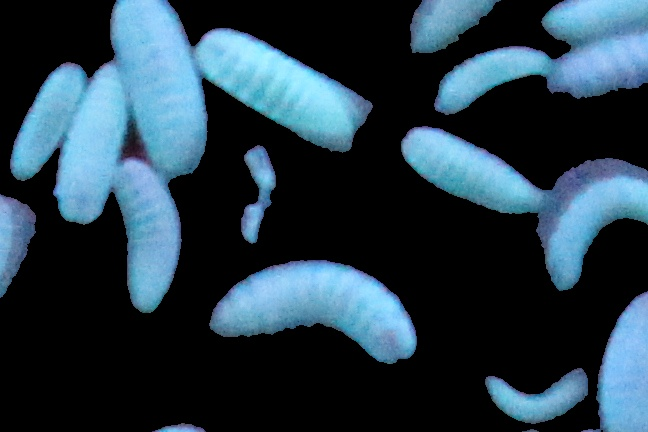larvae: (195, 26, 368, 153), (211, 262, 417, 366), (110, 1, 206, 180), (52, 59, 128, 224), (402, 126, 539, 214), (545, 173, 648, 290), (113, 156, 181, 314), (10, 57, 82, 183), (433, 45, 550, 115), (594, 292, 647, 432), (548, 31, 648, 100), (540, 1, 648, 52), (483, 371, 589, 422), (403, 1, 498, 53)
